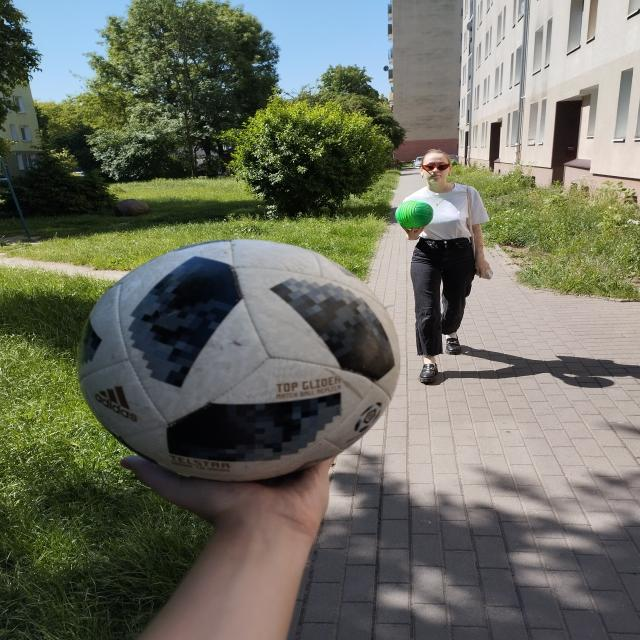nozna: (75, 238, 401, 481)
zielona: (395, 200, 434, 229)
